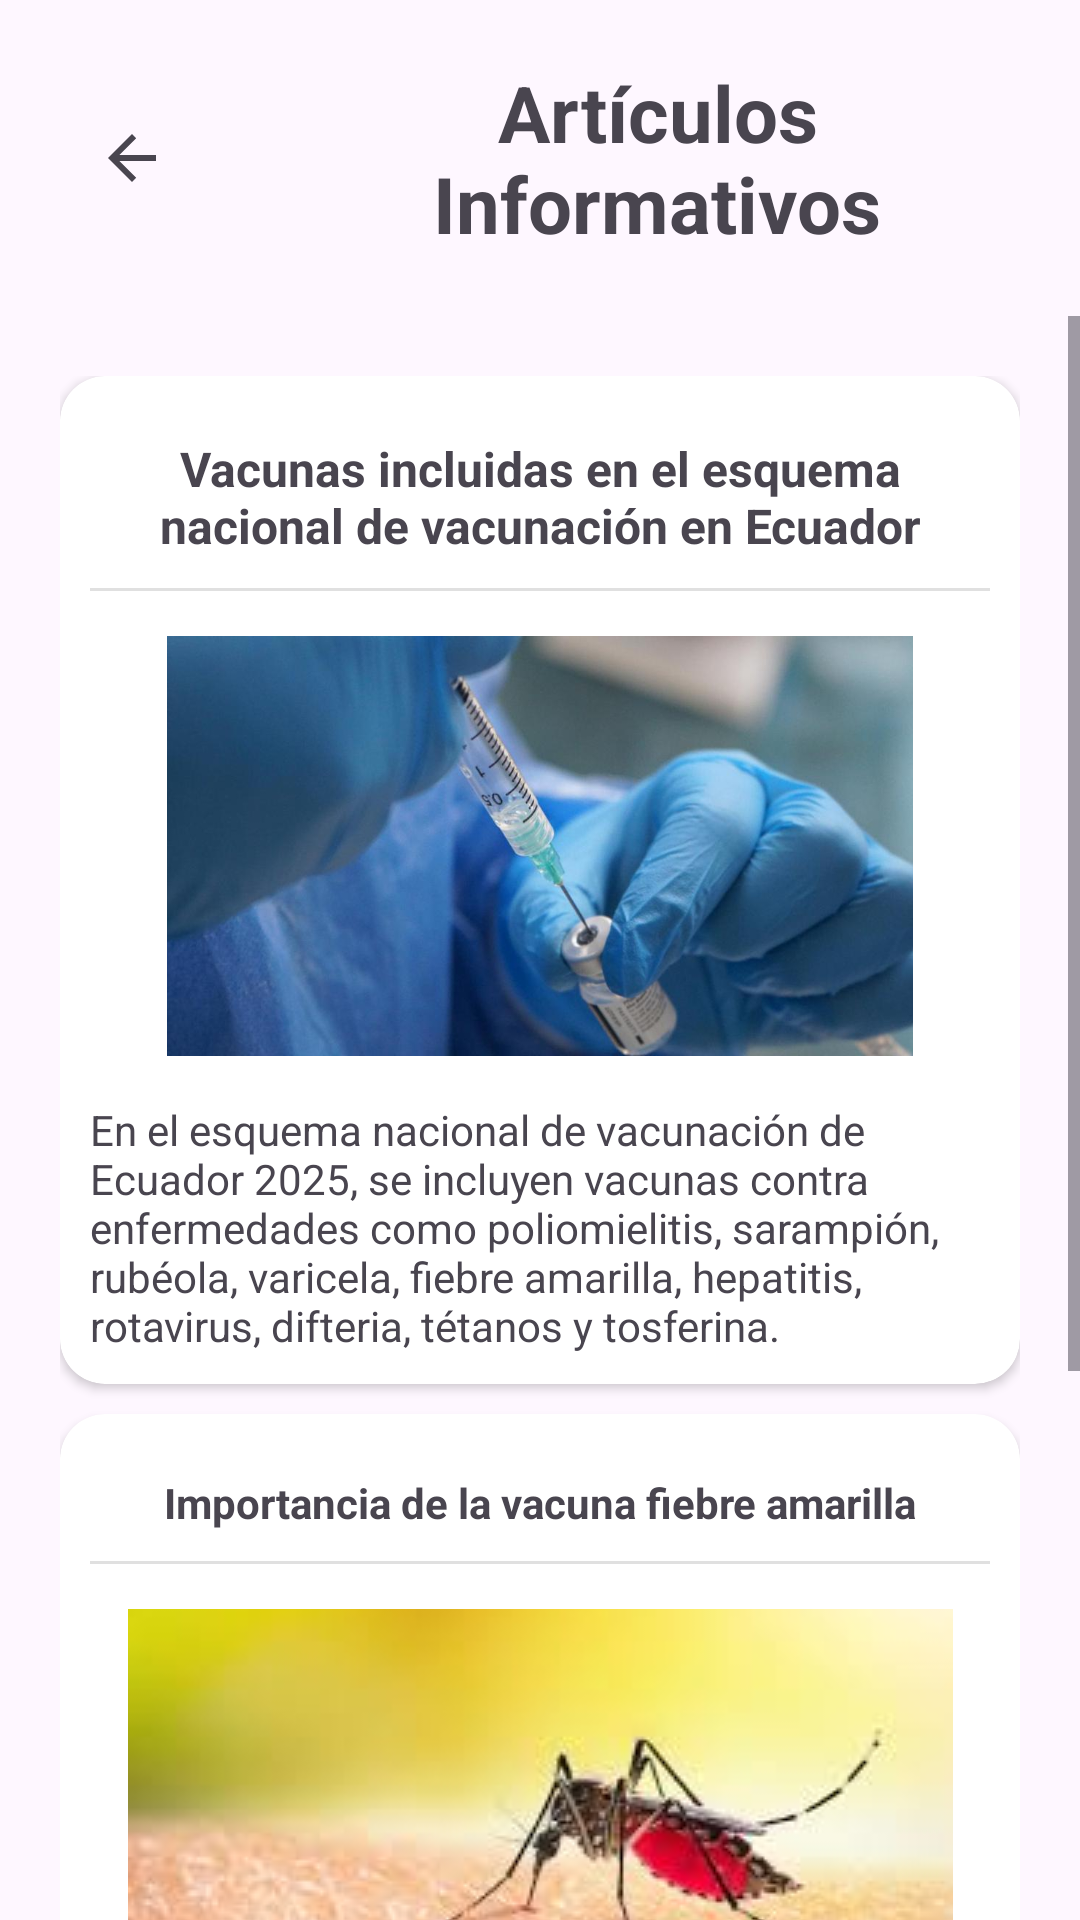

Where to tap for icons on this 1080w x 1920h app screen, as (x,y):
Regresar: (132,158)
